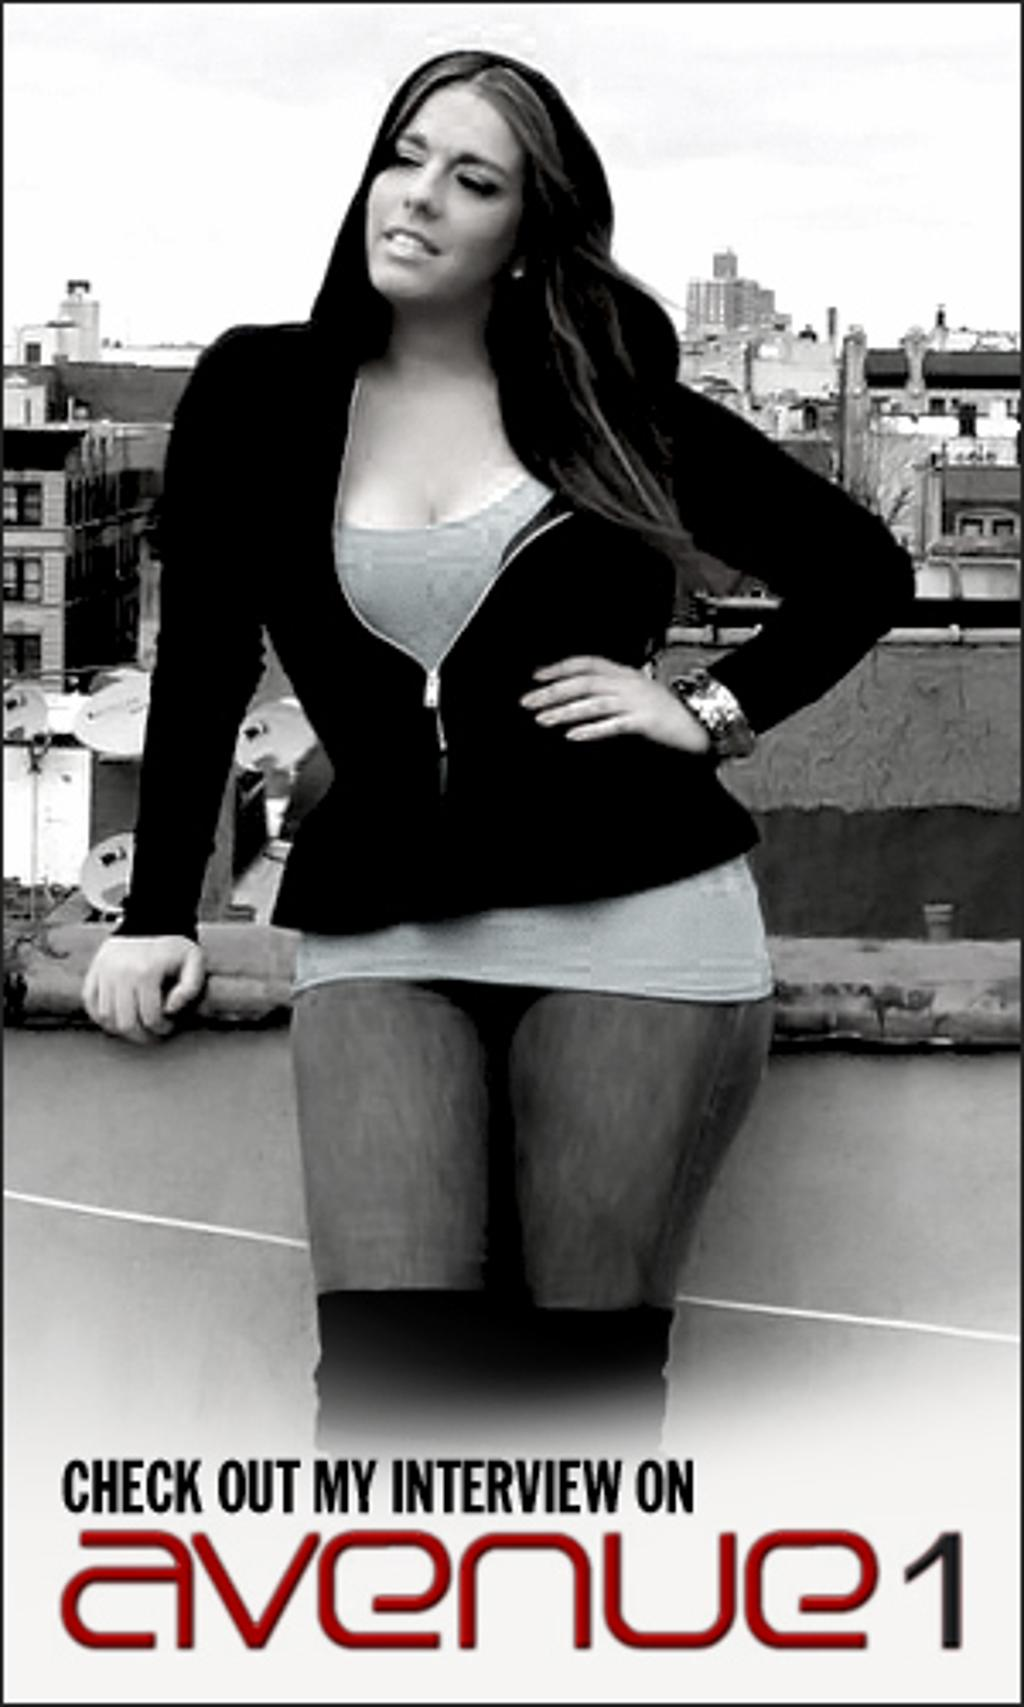face: (364, 77, 527, 294)
